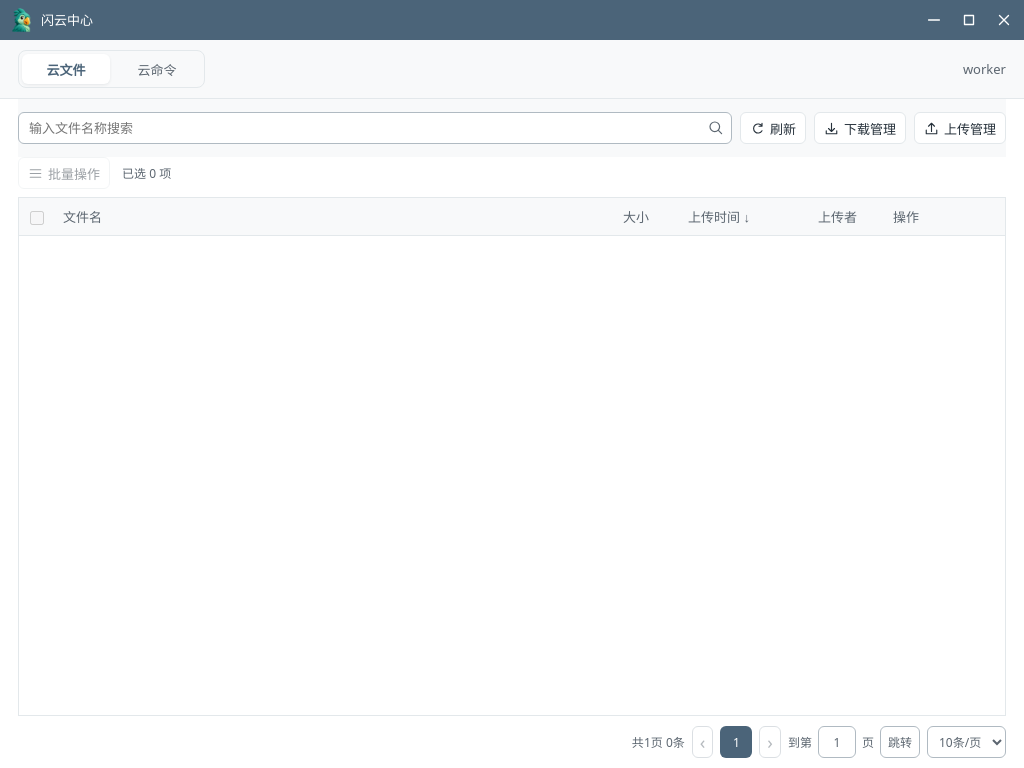
Test: 维护者表单冲突保留草稿及原修订，不自动重试保存
This screenshot has width=1024, height=768.
Click the tab "云命令" at (157, 69), box 113,54 -> 201,84
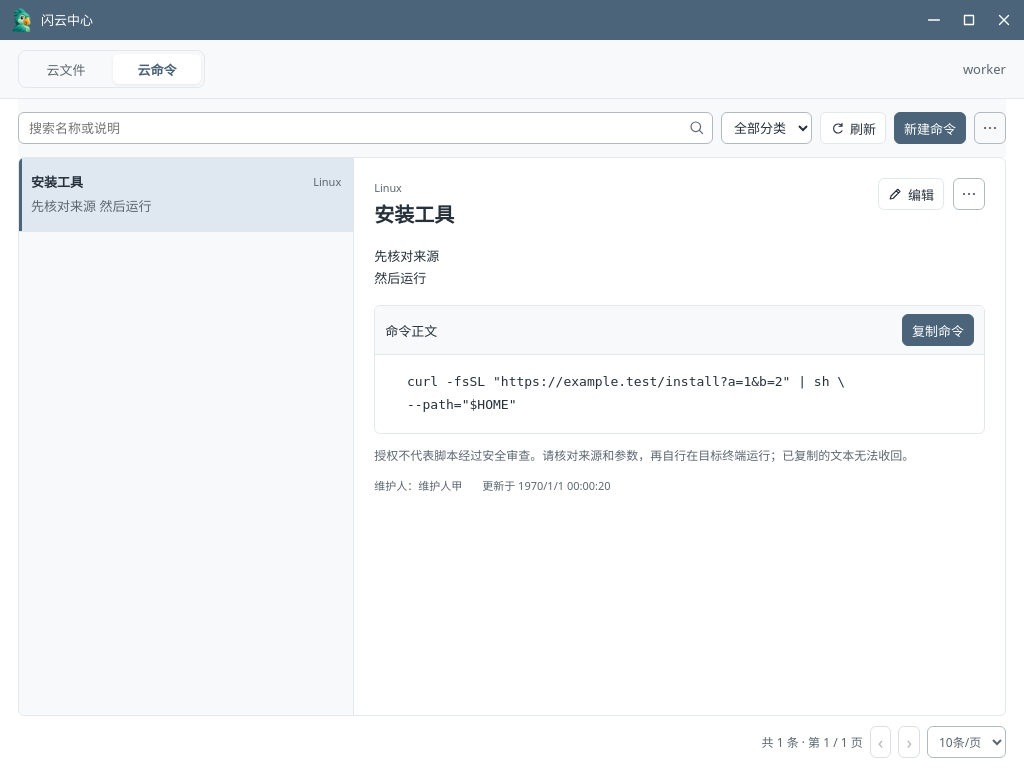
Now the button "安装工具 Linux 先核对来源 然后运行" is shown, box 19,158 -> 353,232
Now the button "复制命令" is shown, box 902,314 -> 974,346
Click the button "编辑" at (911, 194), box 878,178 -> 944,210
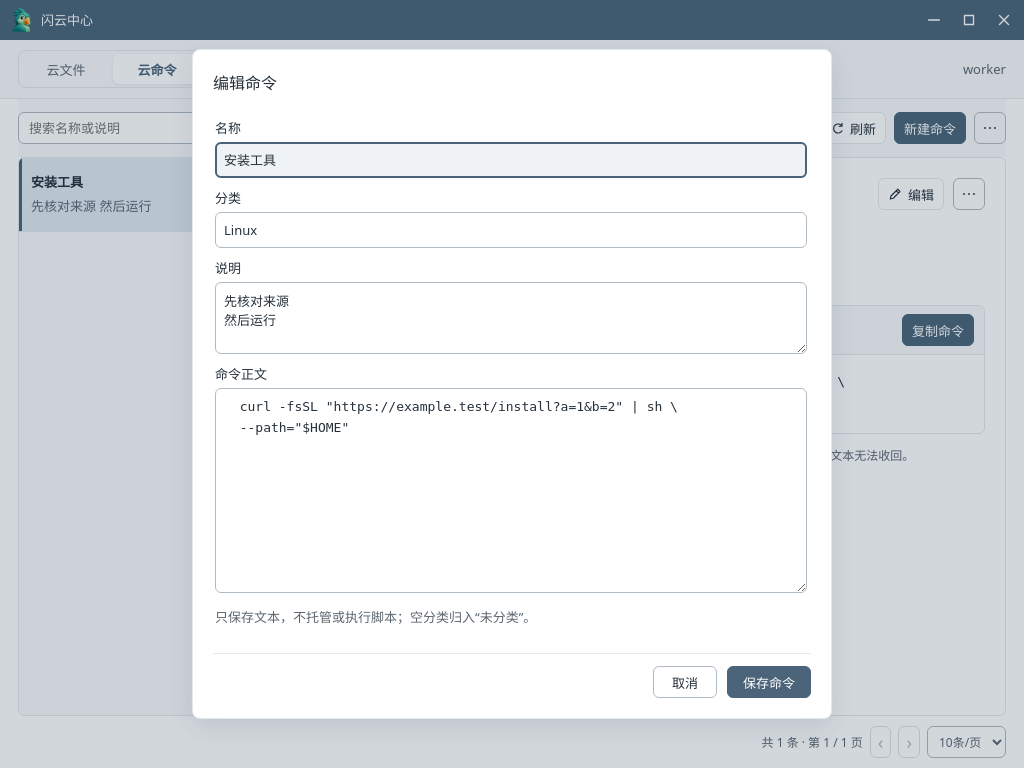
Replace the text in the field labelled "名称" with "我的草稿" at (511, 160), box 215,142 -> 807,178
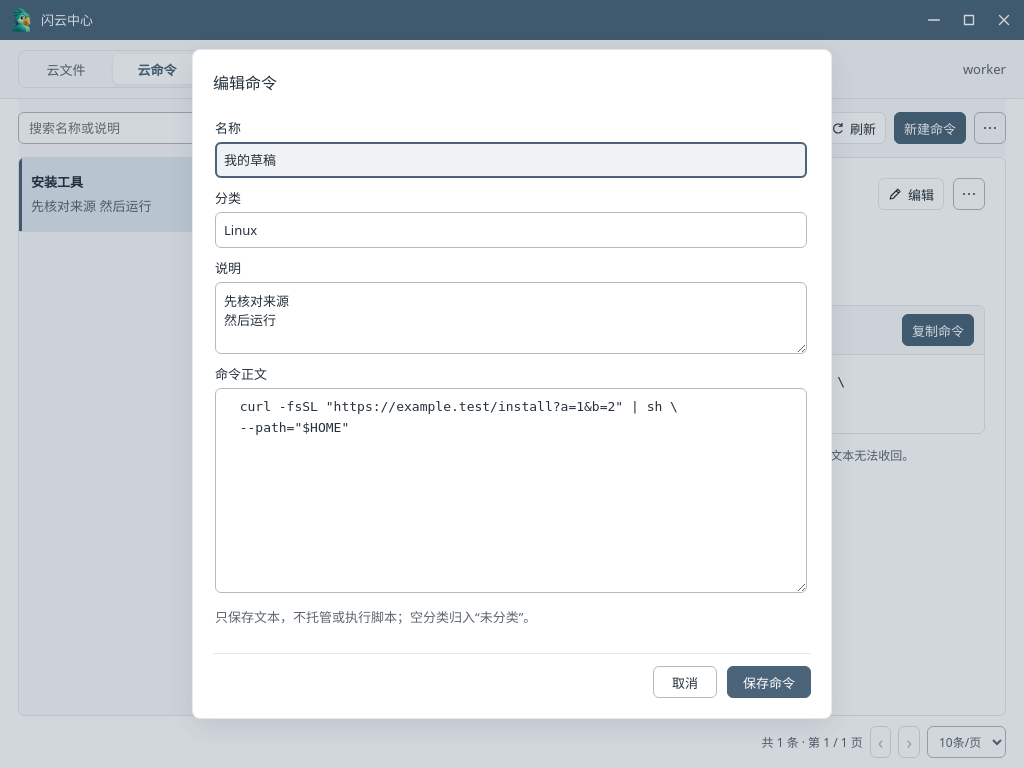
Click the button "保存命令" at (769, 682), box 727,666 -> 811,698
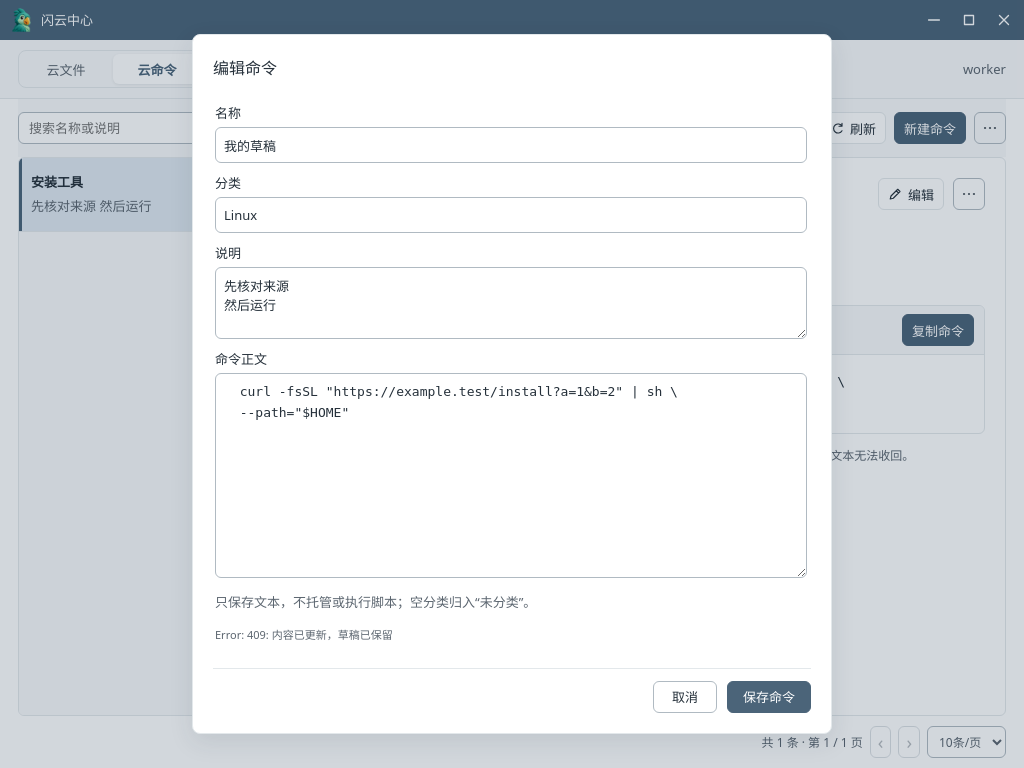
Now the text "Error: 409: 内容已更新，草稿已保留" is shown, box 215,627 -> 393,642
